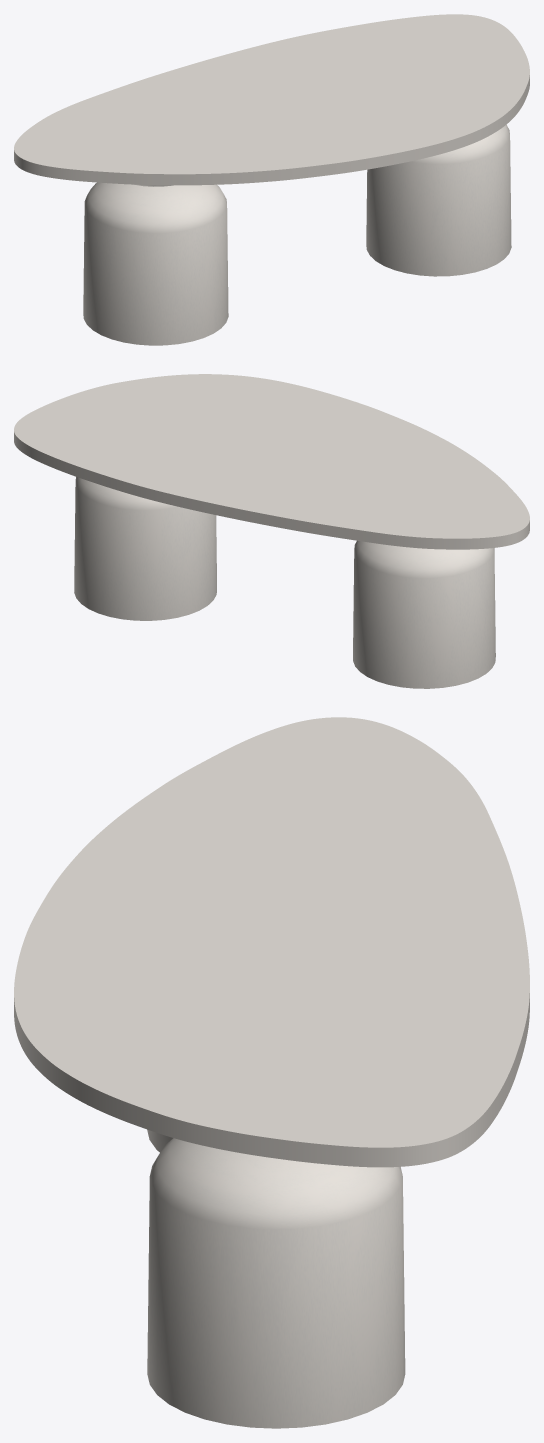
The model's file is pearlwhite_pebbletop_standard_tornado.glb.
3 renders of one model, top to bottom at view 1: azimuth 30°, elevation 25°; view 2: azimuth 150°, elevation 25°; view 3: azimuth 270°, elevation 25°, orthographic. The views are drawn at different scales.
Parts seen in each view (by area): view 1: standard_pebbletop, tornado; view 2: standard_pebbletop, tornado; view 3: standard_pebbletop, tornado.
Boxes of the visible parts, box(x1,y1,x2,y2) form: standard_pebbletop: box(14, 14, 529, 185); tornado: box(83, 125, 511, 345); standard_pebbletop: box(14, 374, 529, 549); tornado: box(74, 477, 495, 688); standard_pebbletop: box(14, 717, 529, 1167); tornado: box(147, 1129, 405, 1428).
Bounding box in the file's own units: 7.5 × 2.51 × 3.8.
1 material, 1 textured.
